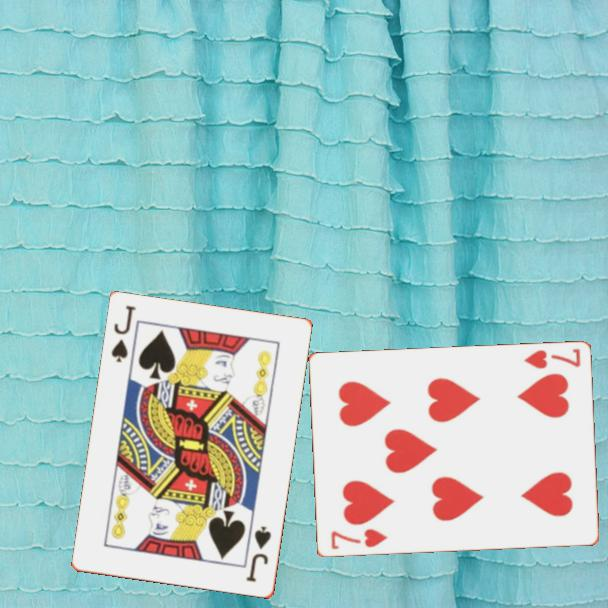h07: (520, 345, 583, 372), (327, 526, 390, 552)
s11: (108, 302, 139, 365), (243, 523, 274, 585)
